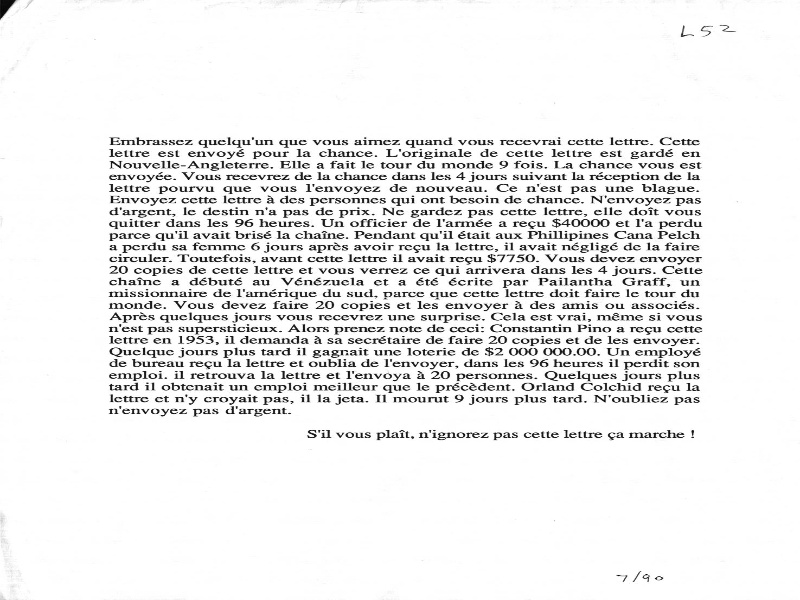letter: (100, 124, 737, 458)
